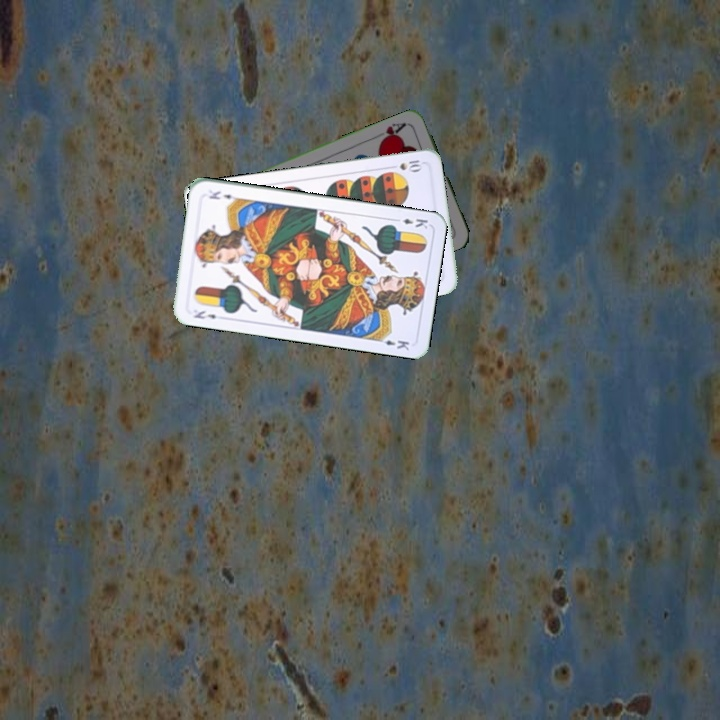EK: (390, 215, 430, 231), (189, 307, 219, 322)
HA: (377, 119, 409, 145)
S10: (385, 156, 425, 173)
